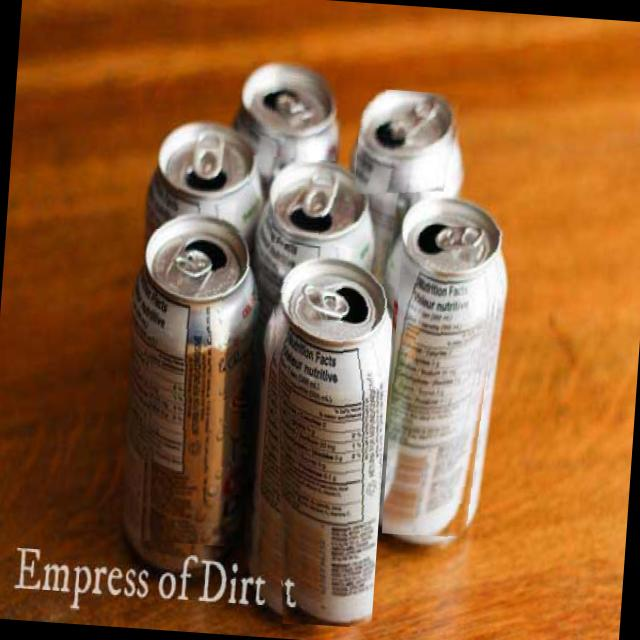Cans: (249, 276, 395, 630), (134, 241, 264, 547), (381, 222, 505, 540), (354, 87, 462, 202), (152, 138, 250, 235), (245, 72, 342, 160), (270, 184, 368, 248)
